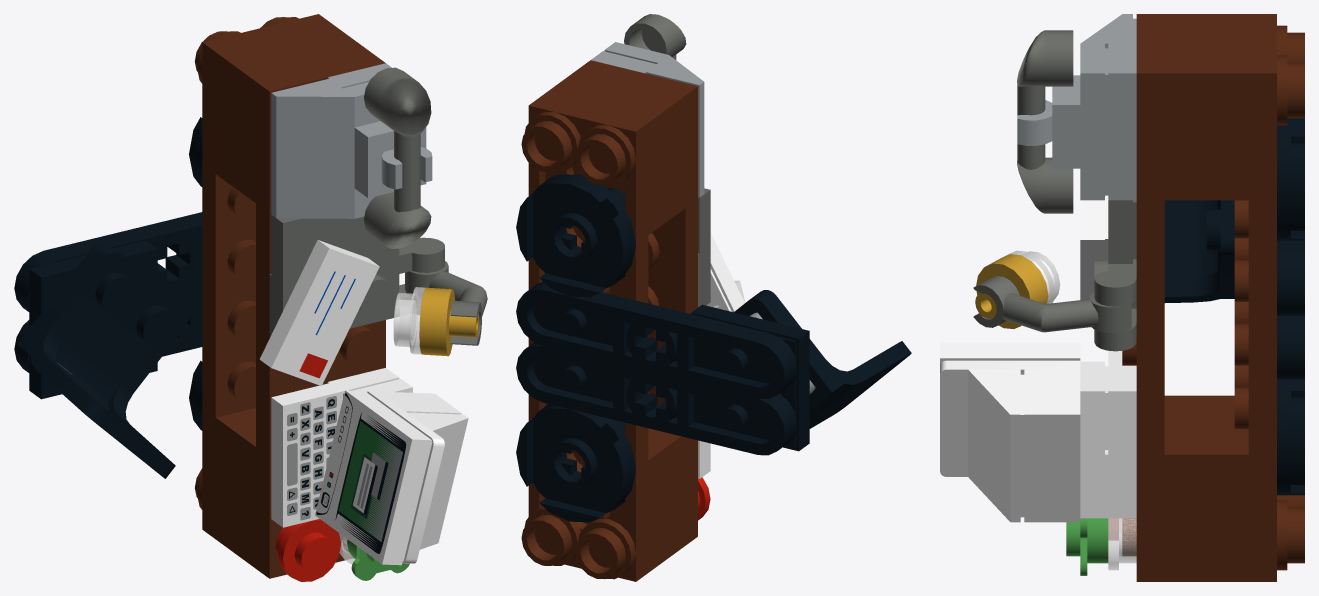
The model's file is 75827 - SECRETARY OFFICE.obj.
3 renders of one model, left to right at view 1: azimuth 30°, elevation 25°; view 2: azimuth 150°, elevation 25°; view 3: azimuth 270°, elevation 25°, orthographic. The views are drawn at different scales.
Parts seen in each view (by area): view 1: Piece014, Piece006, Piece037, Piece015, Piece025, Piece012, Piece026, Piece020, Piece030, Piece011, Piece002, Piece018 (+17 smaller); view 2: Piece002, Piece003, Piece005, Piece006, Piece004, Piece015, Piece012, Piece014, Piece011, Piece001, Piece009, Piece007 (+9 smaller); view 3: Piece006, Piece015, Piece012, Piece011, Piece034, Piece036, Piece014, Piece030, Piece033, Piece016, Piece023, Piece017 (+20 smaller).
Part boxes in pixels (x1,y1,x2,y2): Piece014: [17, 243, 190, 478]; Piece006: [202, 14, 331, 538]; Piece037: [315, 390, 432, 565]; Piece015: [256, 53, 385, 578]; Piece025: [271, 78, 354, 218]; Piece012: [215, 24, 371, 202]; Piece026: [259, 240, 379, 385]; Piece020: [271, 383, 341, 527]; Piece030: [364, 67, 431, 248]; Piece011: [215, 408, 255, 568]; Piece002: [14, 212, 202, 311]; Piece018: [271, 215, 399, 283]; Piece002: [516, 281, 797, 398]; Piece003: [516, 342, 797, 455]; Piece005: [516, 174, 635, 297]; Piece006: [528, 96, 648, 581]; Piece004: [516, 404, 635, 522]; Piece015: [578, 60, 697, 545]; Piece012: [541, 69, 685, 234]; Piece014: [734, 290, 911, 428]; Piece011: [648, 428, 685, 572]; Piece001: [691, 304, 809, 451]; Piece009: [575, 125, 635, 185]; Piece007: [575, 518, 635, 579]; Piece006: [1234, 14, 1276, 581]; Piece015: [1122, 14, 1164, 581]; Piece012: [1164, 14, 1248, 200]; Piece011: [1164, 395, 1248, 581]; Piece034: [940, 360, 1080, 522]; Piece036: [968, 369, 1024, 522]; Piece014: [1164, 200, 1234, 302]; Piece030: [1017, 30, 1073, 213]; Piece033: [973, 276, 1131, 332]; Piece016: [1108, 43, 1136, 200]; Piece023: [1080, 43, 1108, 200]; Piece017: [1108, 361, 1136, 518].
Size of the model in its own units: 131 by 168 by 104.
